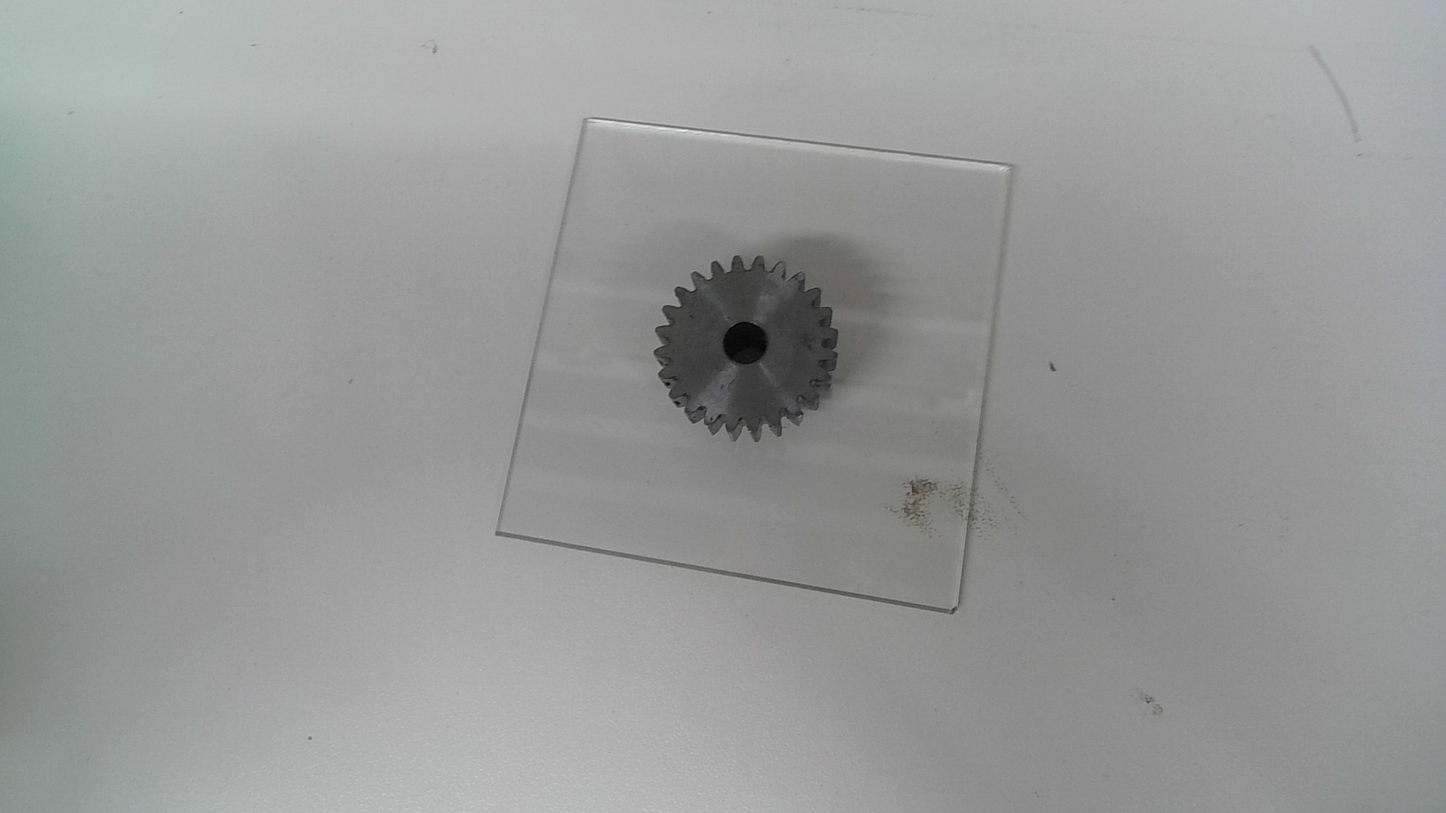gear: (652, 251, 842, 447)
